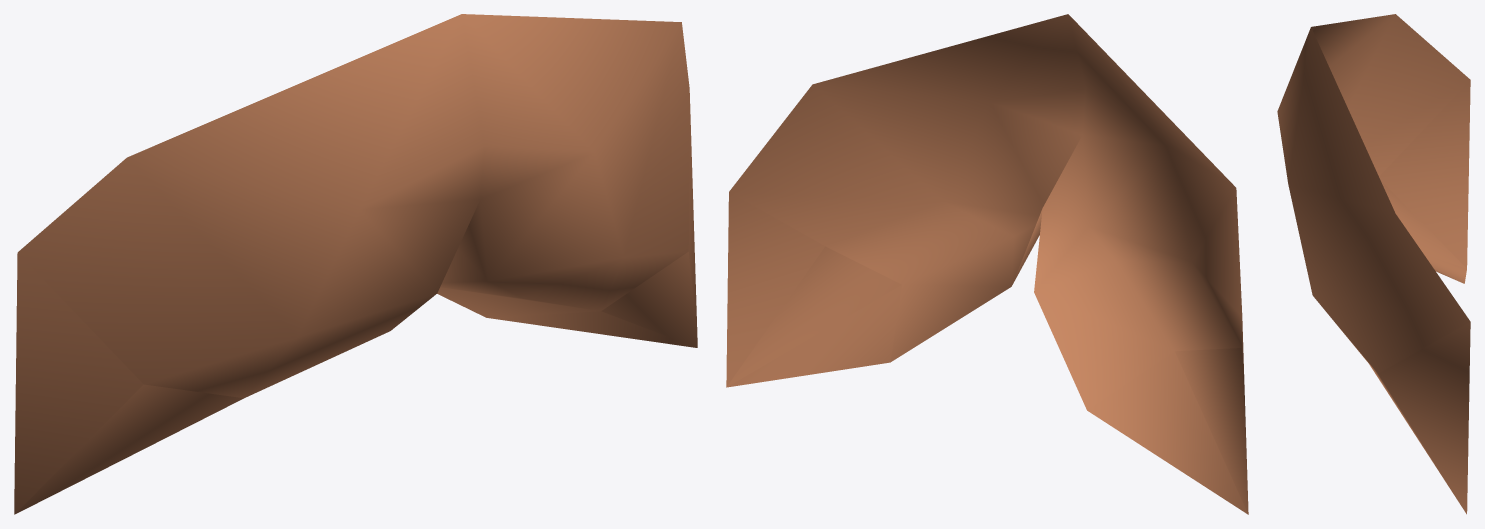
Rendered from DanishMustache.fbx.
The picture shows the model from 3 angles, left to right: view 1: azimuth 30°, elevation 25°; view 2: azimuth 150°, elevation 25°; view 3: azimuth 270°, elevation 25°; orthographic projection. The views are drawn at different scales.
Parts seen in each view (by area): view 1: 02 Beard - Danish Mustache; view 2: 02 Beard - Danish Mustache; view 3: 02 Beard - Danish Mustache.
Part boxes in pixels (x1,y1,x2,y2): 02 Beard - Danish Mustache: [14, 14, 697, 514]; 02 Beard - Danish Mustache: [726, 14, 1248, 514]; 02 Beard - Danish Mustache: [1277, 14, 1470, 514].
Bounding box in the file's own units: 0.0885 × 0.0613 × 0.0294.
